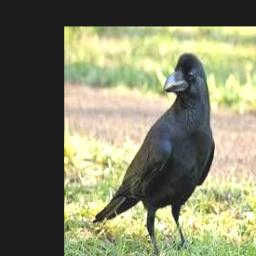Crow: (93, 52, 214, 256)
